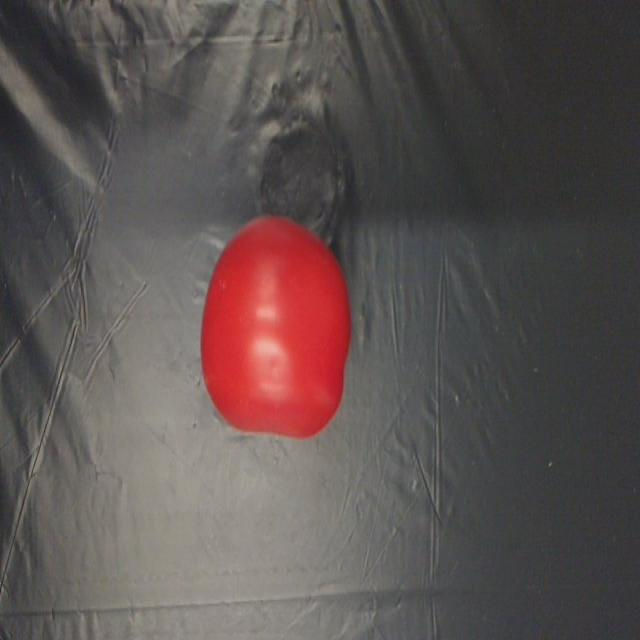kirmizi: (189, 225, 367, 442)
